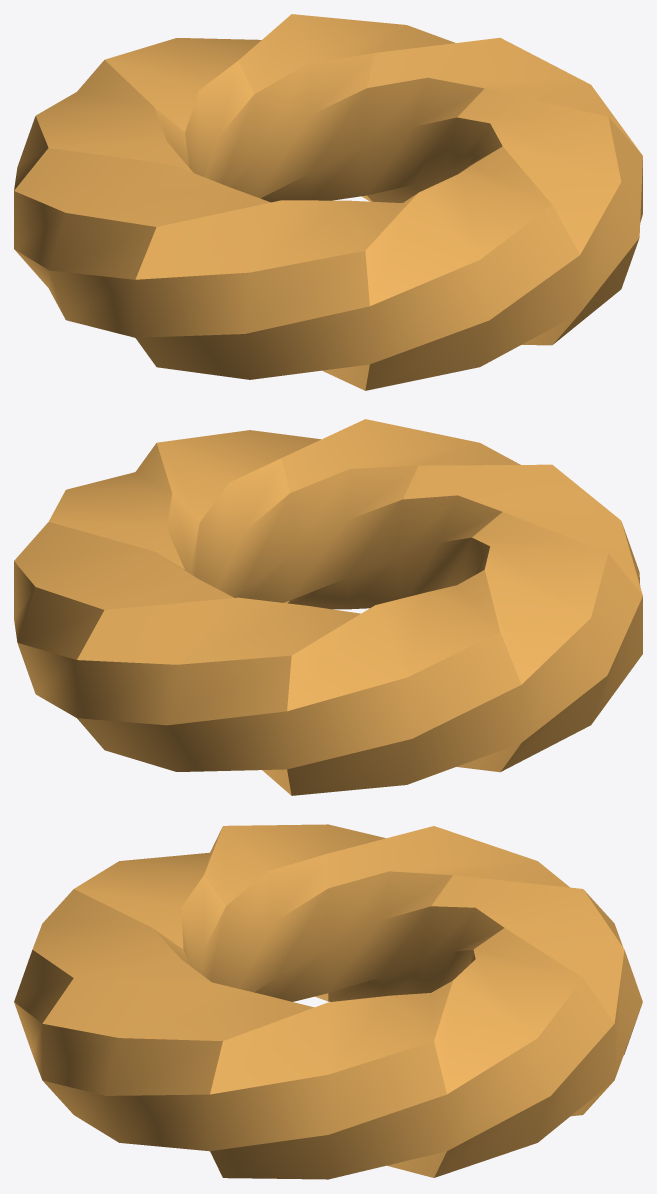
The model's file is TwistedTorus_05.fbx.
The picture shows the model from 3 angles, top to bottom: view 1: azimuth 30°, elevation 25°; view 2: azimuth 150°, elevation 25°; view 3: azimuth 270°, elevation 25°; orthographic projection. The views are drawn at different scales.
Visible parts, largest first — view 1: TwistedTorus_05; view 2: TwistedTorus_05; view 3: TwistedTorus_05.
Part boxes in pixels (bbox=[...]): TwistedTorus_05: bbox=[14, 14, 642, 390]; TwistedTorus_05: bbox=[14, 419, 642, 795]; TwistedTorus_05: bbox=[14, 824, 642, 1179].
Size of the model in its own units: 375 by 97.5 by 375.
